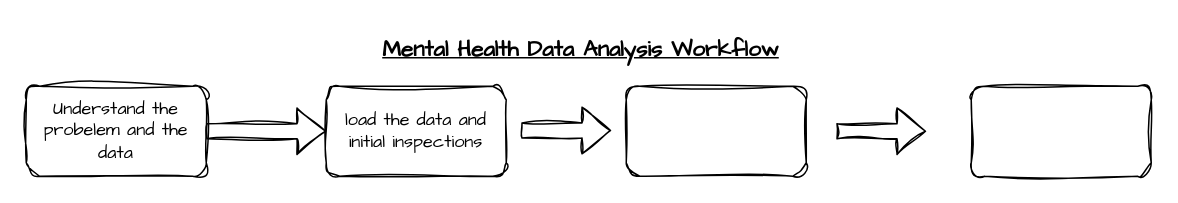
Image size: 1178x203. Some labels were removed from this diagram. Each missing label, with the box of its shape:
Exploratory data analysis: (625, 85, 806, 176)
Interpretation and communication: (970, 85, 1151, 176)
